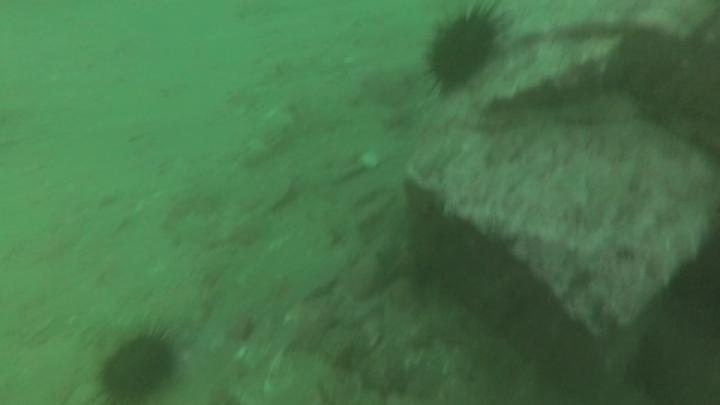echinus: (421, 5, 507, 96), (95, 326, 181, 404)
